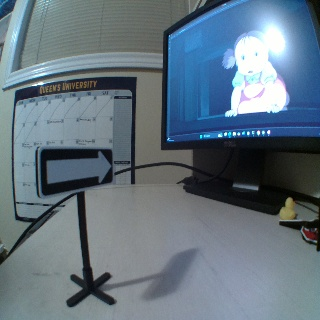sign_oneway_right: (33, 145, 112, 194)
